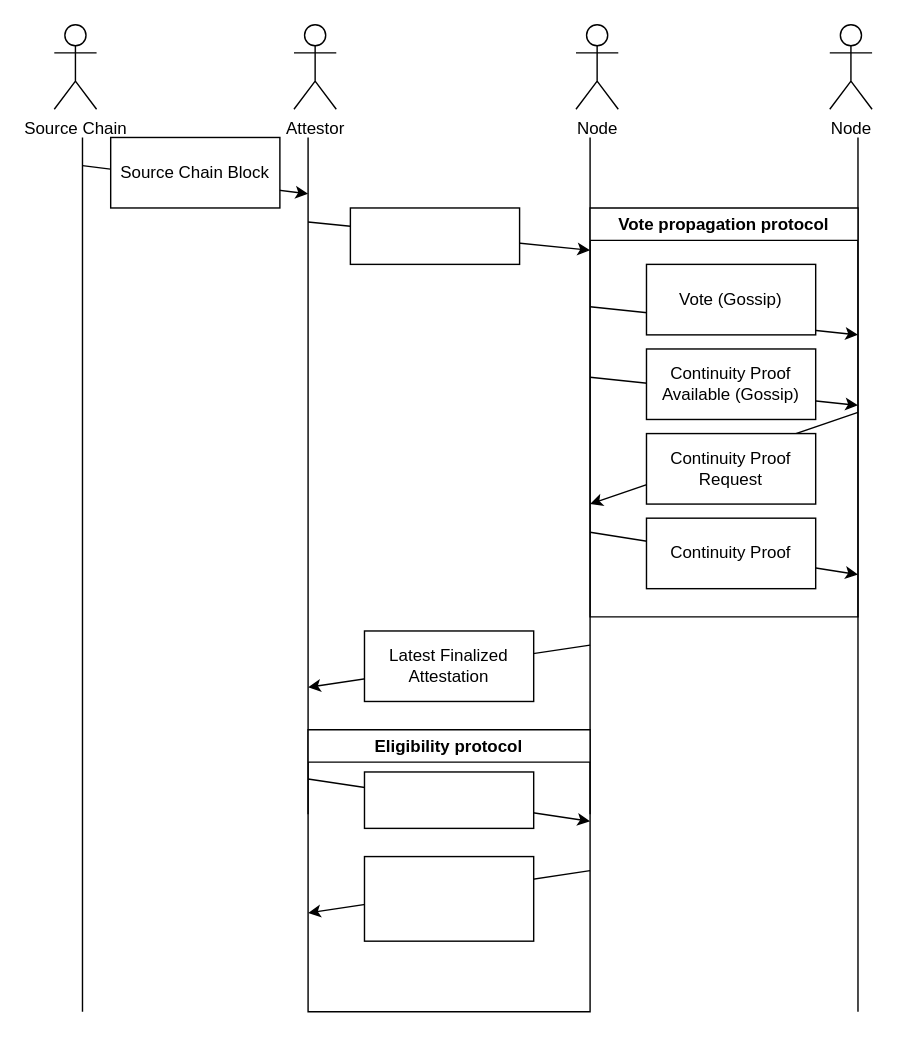
Image size: 897x1038. Some labels were removed from this diagram. Each missing label, with the centre of its shape:
Extended Vote: point 434,235
Stake Distribution + Committee Size Response: point 448,898
Stake Distribution Request: point 448,799
